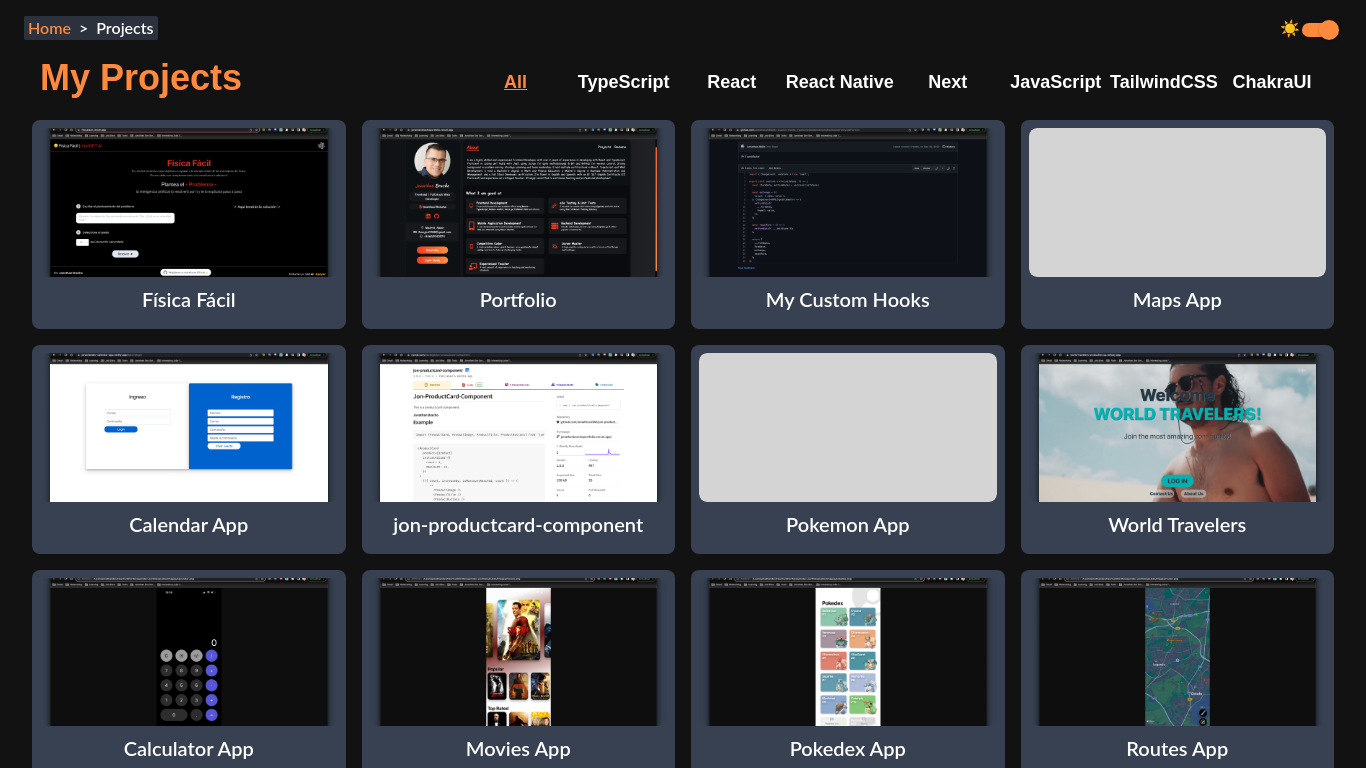
Test case: Projects Page › should display the correct project name and description
Click the picture named "Project Image of: Física Fácil" at (189, 203), box left=40, top=128, right=338, bottom=277
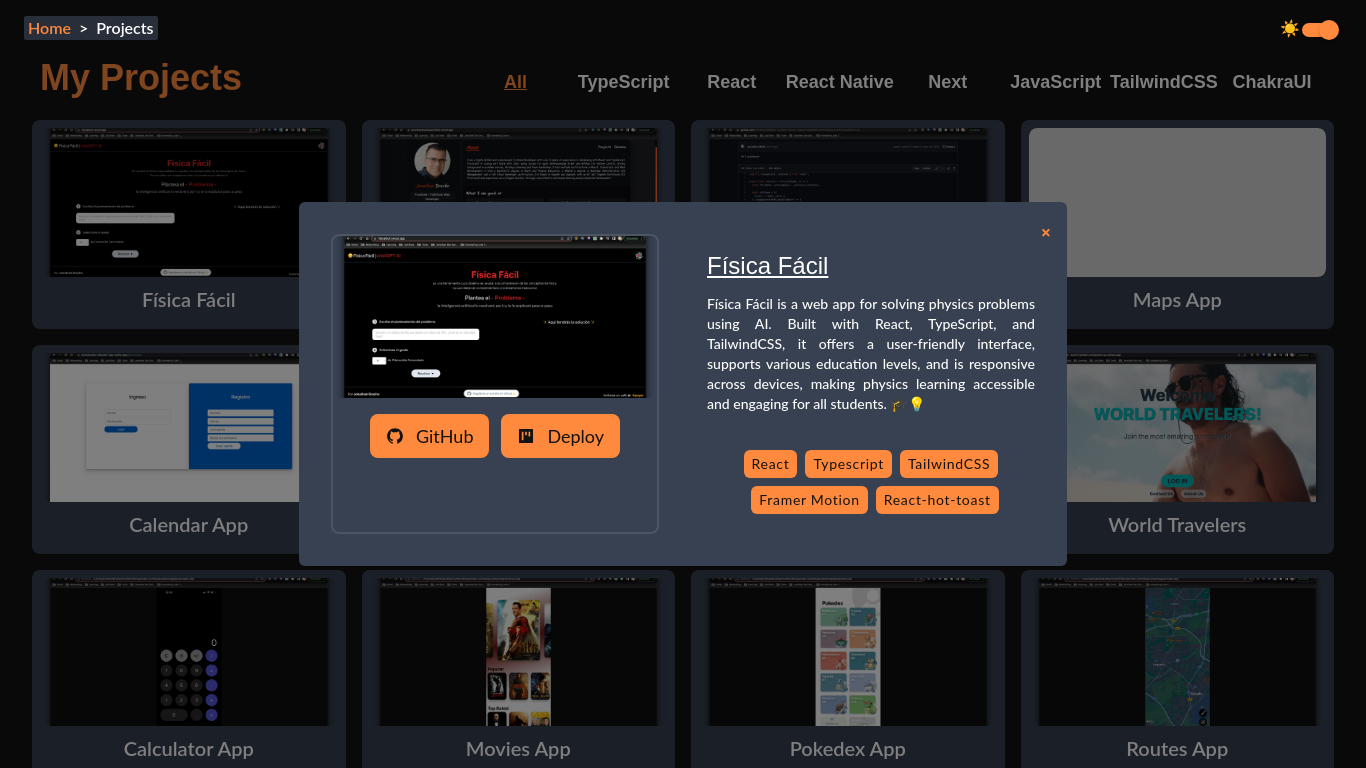
Result: the heading "Física Fácil" is shown at left=707, top=252, right=828, bottom=279
Result: the 2nd heading shows "Física Fácil is a web app for solving physics problems using AI. Built with React, TypeScript, and TailwindCSS, it offers a user-friendly interface, supports va" at left=707, top=295, right=1035, bottom=412
